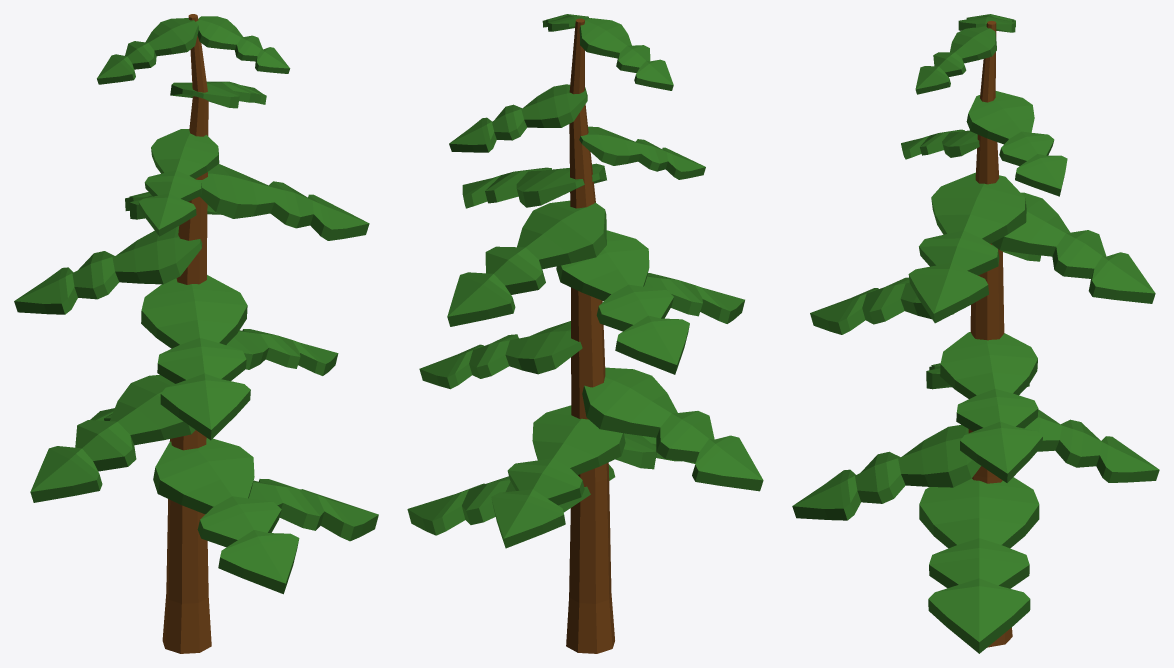
File: Fir Tree Enhanced 9.fbx
The picture shows the model from 3 angles, left to right: view 1: azimuth 30°, elevation 25°; view 2: azimuth 150°, elevation 25°; view 3: azimuth 270°, elevation 25°; orthographic projection.
Visible parts, largest first — view 1: Fir Leaf.007, Fir Leaf.011, Fir Trunk, Fir Leaf.009, Fir Leaf.006, Fir Leaf.004, Fir Leaf.003, Fir Leaf.012, Fir Leaf.001, Fir Leaf.008, Fir Leaf, Fir Leaf.002; view 2: Fir Trunk, Fir Leaf.009, Fir Leaf.010, Fir Leaf.005, Fir Leaf.006, Fir Leaf.008, Fir Leaf.002, Fir Leaf.004, Fir Leaf.012, Fir Leaf.001, Fir Leaf.003, Fir Leaf.007 (+1 smaller); view 3: Fir Leaf.012, Fir Leaf.008, Fir Leaf.004, Fir Leaf.011, Fir Leaf.005, Fir Leaf.002, Fir Leaf.010, Fir Trunk, Fir Leaf.007, Fir Leaf, Fir Leaf.003, Fir Leaf.001.
Boxes of the visible parts, left/top/right/bottom form: Fir Leaf.007: left=141, top=275, right=250, bottom=440; Fir Leaf.011: left=153, top=438, right=299, bottom=594; Fir Trunk: left=162, top=14, right=211, bottom=653; Fir Leaf.009: left=30, top=374, right=195, bottom=502; Fir Leaf.006: left=14, top=226, right=202, bottom=314; Fir Leaf.004: left=196, top=164, right=369, bottom=240; Fir Leaf.003: left=138, top=129, right=219, bottom=236; Fir Leaf.012: left=248, top=479, right=378, bottom=541; Fir Leaf.001: left=97, top=18, right=198, bottom=84; Fir Leaf.008: left=226, top=329, right=338, bottom=375; Fir Leaf: left=196, top=16, right=290, bottom=73; Fir Leaf.002: left=170, top=81, right=266, bottom=108; Fir Trunk: left=566, top=18, right=614, bottom=653; Fir Leaf.009: left=582, top=367, right=763, bottom=491; Fir Leaf.010: left=491, top=405, right=625, bottom=548; Fir Leaf.005: left=447, top=200, right=606, bottom=326; Fir Leaf.006: left=556, top=230, right=689, bottom=374; Fir Leaf.008: left=419, top=321, right=582, bottom=389; Fir Leaf.002: left=449, top=84, right=587, bottom=152; Fir Leaf.004: left=462, top=163, right=606, bottom=208; Fir Leaf.012: left=407, top=464, right=615, bottom=535; Fir Leaf.001: left=579, top=18, right=673, bottom=90; Fir Leaf.003: left=579, top=126, right=705, bottom=179; Fir Leaf.007: left=644, top=273, right=744, bottom=323; Fir Leaf.012: left=919, top=477, right=1039, bottom=653; Fir Leaf.008: left=940, top=332, right=1042, bottom=482; Fir Leaf.004: left=908, top=172, right=1026, bottom=323; Fir Leaf.011: left=792, top=424, right=980, bottom=520; Fir Leaf.005: left=991, top=192, right=1155, bottom=303; Fir Leaf.002: left=966, top=91, right=1067, bottom=196; Fir Leaf.010: left=1024, top=409, right=1159, bottom=482; Fir Trunk: left=968, top=20, right=1012, bottom=647; Fir Leaf.007: left=810, top=277, right=953, bottom=334; Fir Leaf: left=915, top=26, right=996, bottom=94; Fir Leaf.003: left=901, top=129, right=979, bottom=159; Fir Leaf.001: left=958, top=14, right=1015, bottom=32.
Size of the model in its own units: 596 by 1007 by 543.
